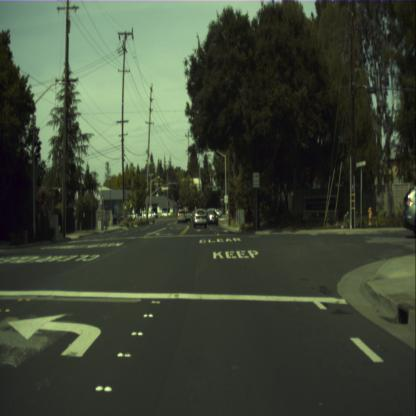Red: (176, 199, 178, 206)
